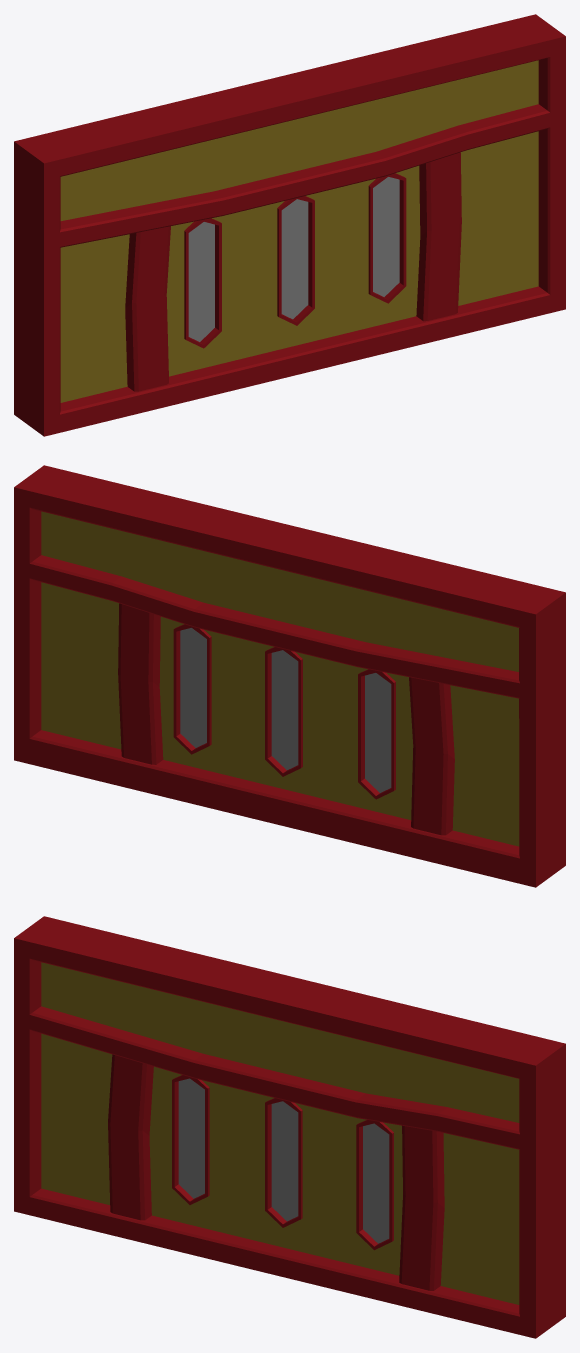
File: SM_MH_01_Plaster_Wall_Half_H_Window_01.fbx
3 renders of one model, top to bottom at view 1: azimuth 30°, elevation 25°; view 2: azimuth 150°, elevation 25°; view 3: azimuth 330°, elevation 25°, orthographic.
Parts seen in each view (by area): view 1: SM_MH_01_Plaster_Wall_Half_H_Window_01_LOD0, SM_MH_01_Plaster_Wall_Half_H_Window_01W_LOD0; view 2: SM_MH_01_Plaster_Wall_Half_H_Window_01_LOD0, SM_MH_01_Plaster_Wall_Half_H_Window_01W_LOD0; view 3: SM_MH_01_Plaster_Wall_Half_H_Window_01_LOD0, SM_MH_01_Plaster_Wall_Half_H_Window_01W_LOD0.
Boxes of the visible parts, x1,y1,x2,y2 form: SM_MH_01_Plaster_Wall_Half_H_Window_01_LOD0: (14, 14, 565, 436); SM_MH_01_Plaster_Wall_Half_H_Window_01W_LOD0: (188, 177, 399, 341); SM_MH_01_Plaster_Wall_Half_H_Window_01_LOD0: (14, 465, 565, 887); SM_MH_01_Plaster_Wall_Half_H_Window_01W_LOD0: (180, 628, 391, 792); SM_MH_01_Plaster_Wall_Half_H_Window_01_LOD0: (14, 916, 565, 1338); SM_MH_01_Plaster_Wall_Half_H_Window_01W_LOD0: (178, 1078, 389, 1243).
Size of what is drawn, in the model's own units: 300 by 150 by 30.
